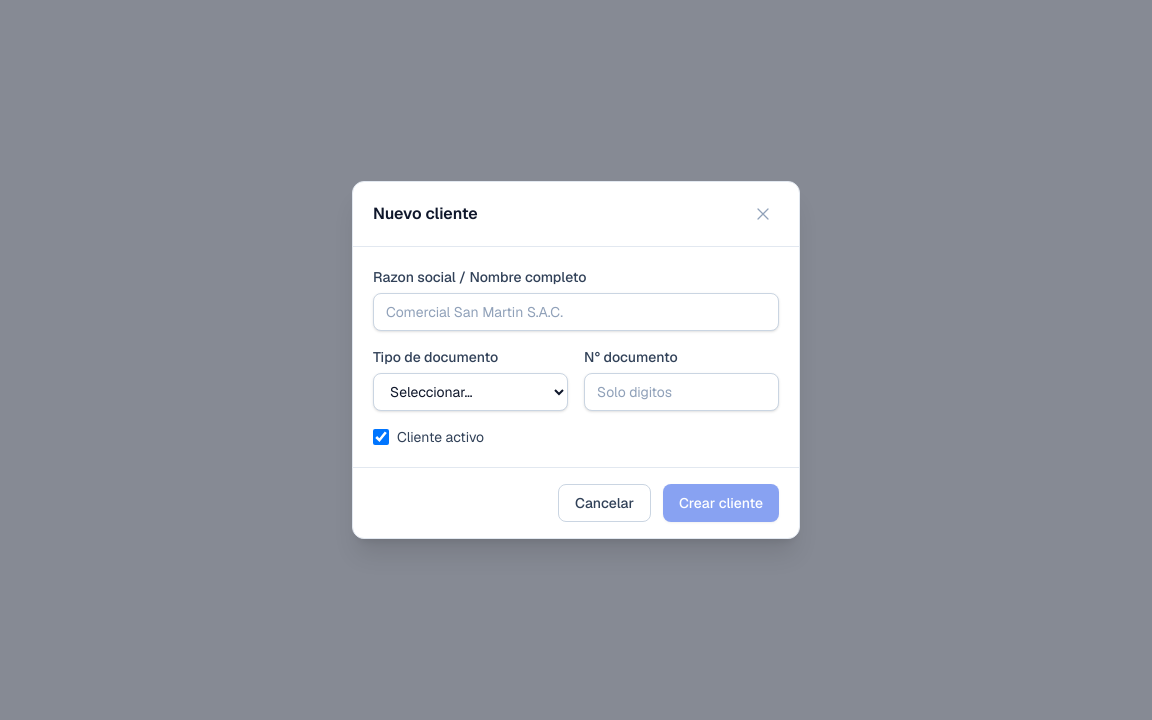
Test case: ClientFormModal › submit button enabled with valid DNI data
Type "Juan Perez" into the field labelled "Razon social / Nombre completo".
click(576, 312); type("Juan Perez")  # box [373,293,779,331]
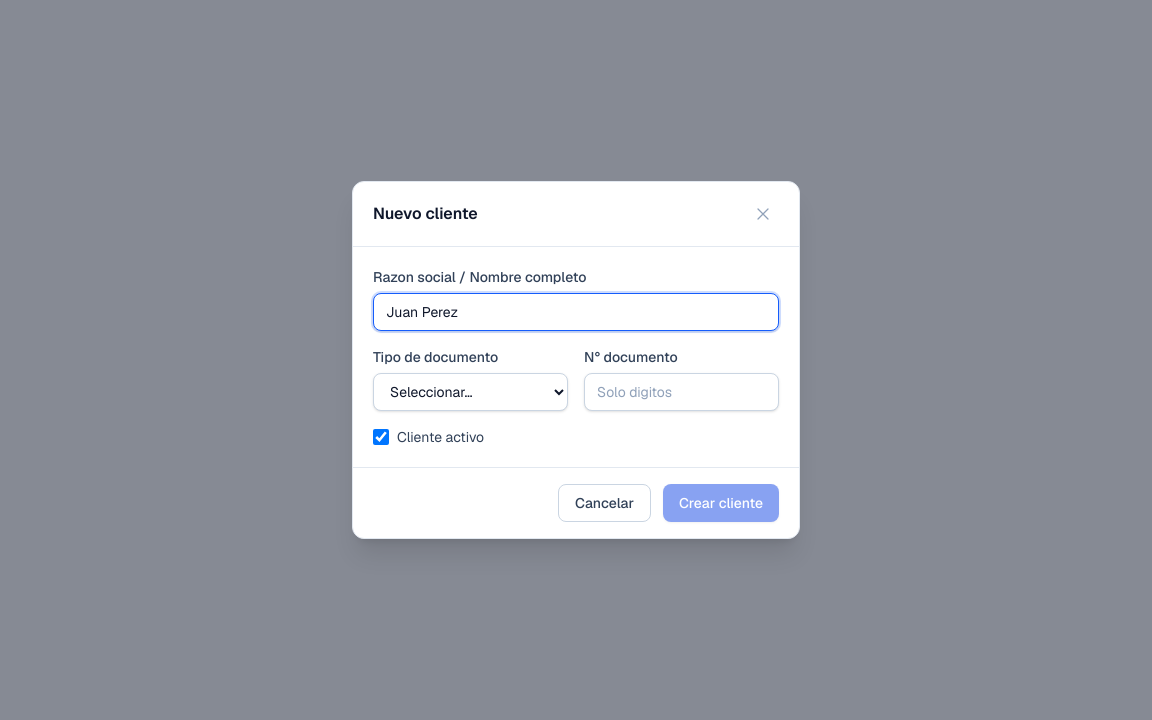
Select "DNI" in the dropdown labelled "Tipo de documento" at (470, 392), box [373,373,568,411]
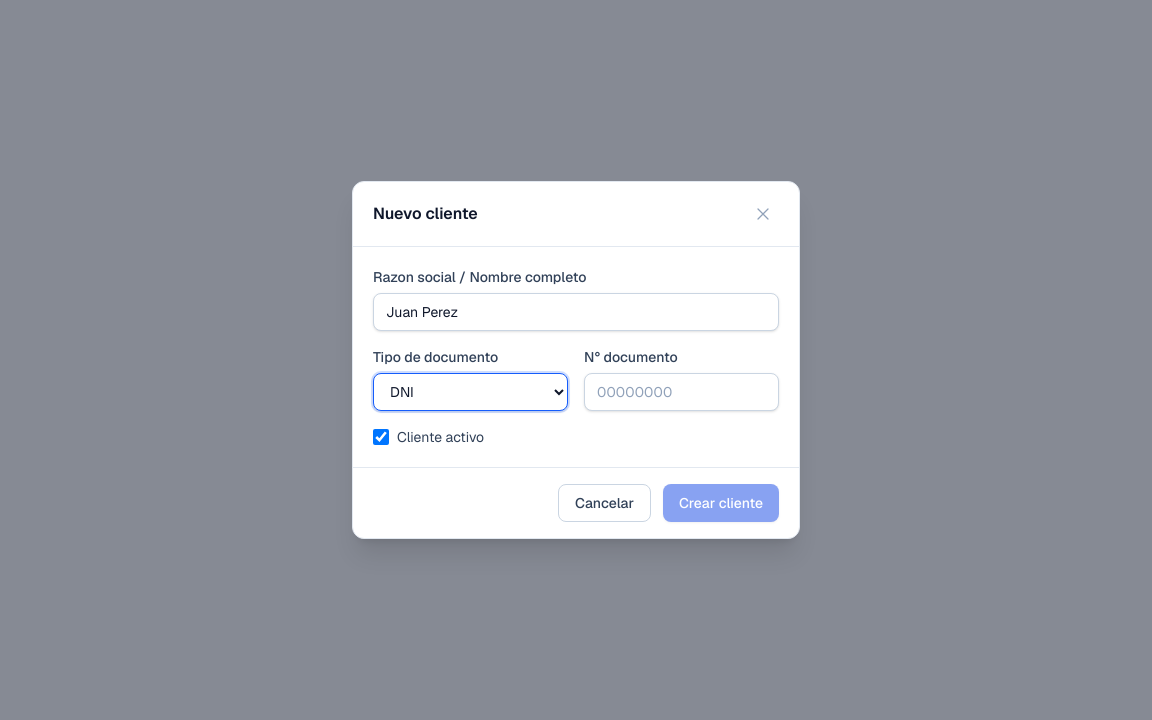
Type "12345678" into the field labelled "N° documento".
click(682, 392); type("12345678")  # box [584,373,779,411]
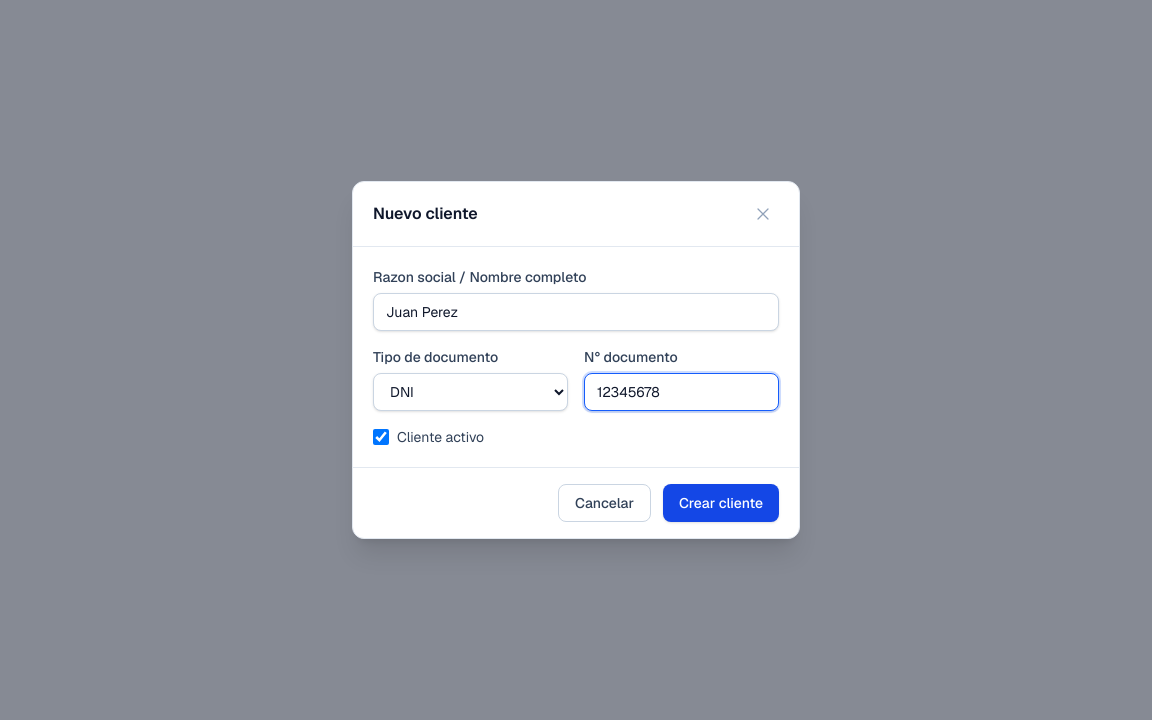
Expected: the button "Crear cliente" is enabled, [663,484,779,522]
